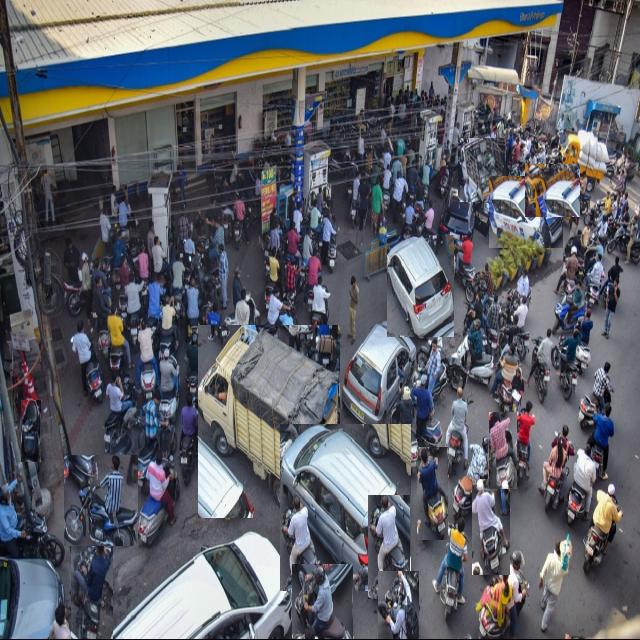car: (280, 425, 411, 591), (109, 532, 294, 640), (341, 322, 417, 424), (388, 236, 454, 337), (0, 558, 64, 640), (490, 177, 563, 248), (439, 189, 474, 248)
motorcycle: (65, 455, 138, 546), (0, 473, 65, 567), (292, 565, 353, 640), (71, 536, 113, 639), (369, 495, 410, 599), (432, 518, 471, 619), (472, 480, 510, 575), (452, 436, 493, 520), (379, 571, 419, 640), (418, 448, 448, 540), (445, 387, 475, 473), (391, 386, 419, 470), (490, 413, 517, 489), (515, 400, 537, 483), (21, 400, 41, 462), (419, 416, 445, 456), (545, 476, 562, 510)
truck: (198, 325, 340, 518), (458, 138, 506, 202), (526, 164, 580, 217), (560, 131, 609, 188)
